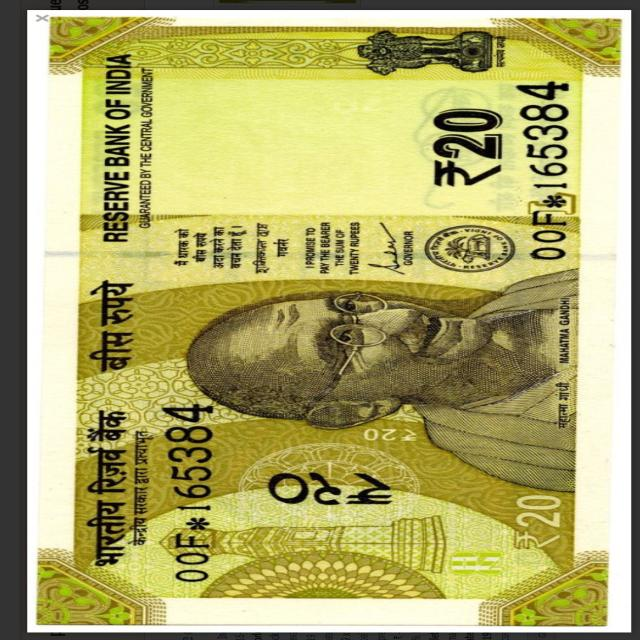20IndianRupees: (35, 8, 640, 630)
